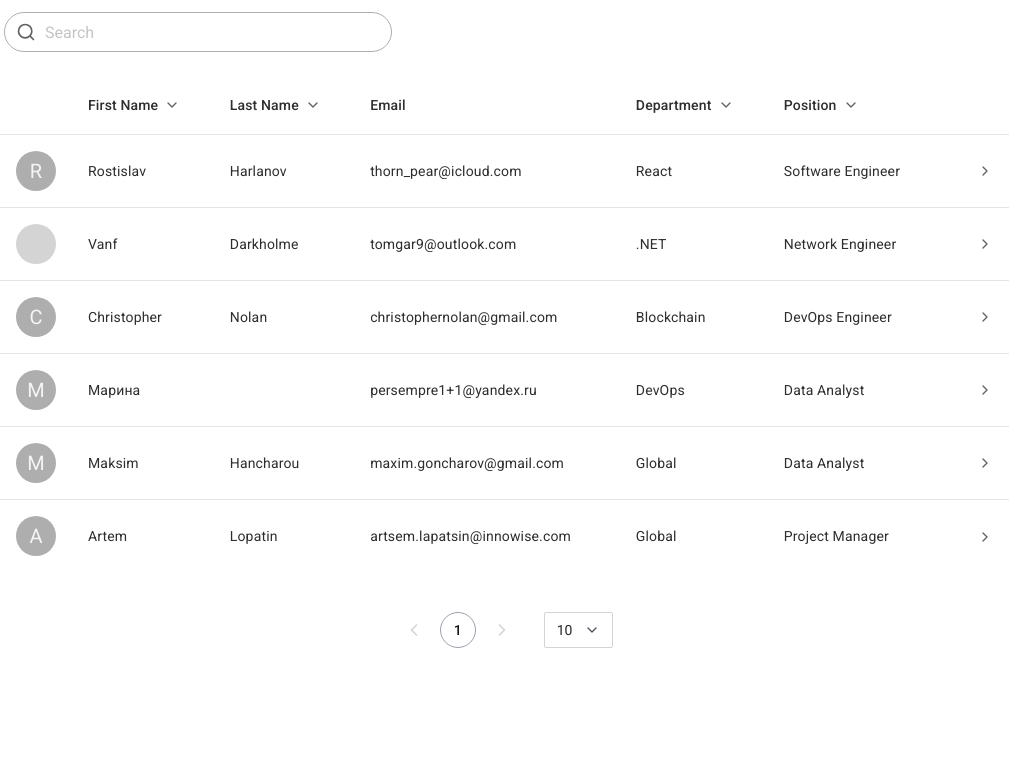
Test case: UsersTable component › filters employees when searching
Type "Nolan" into the field named "search employees" at (198, 32), box [4,12,392,52]
Wait 300 ms
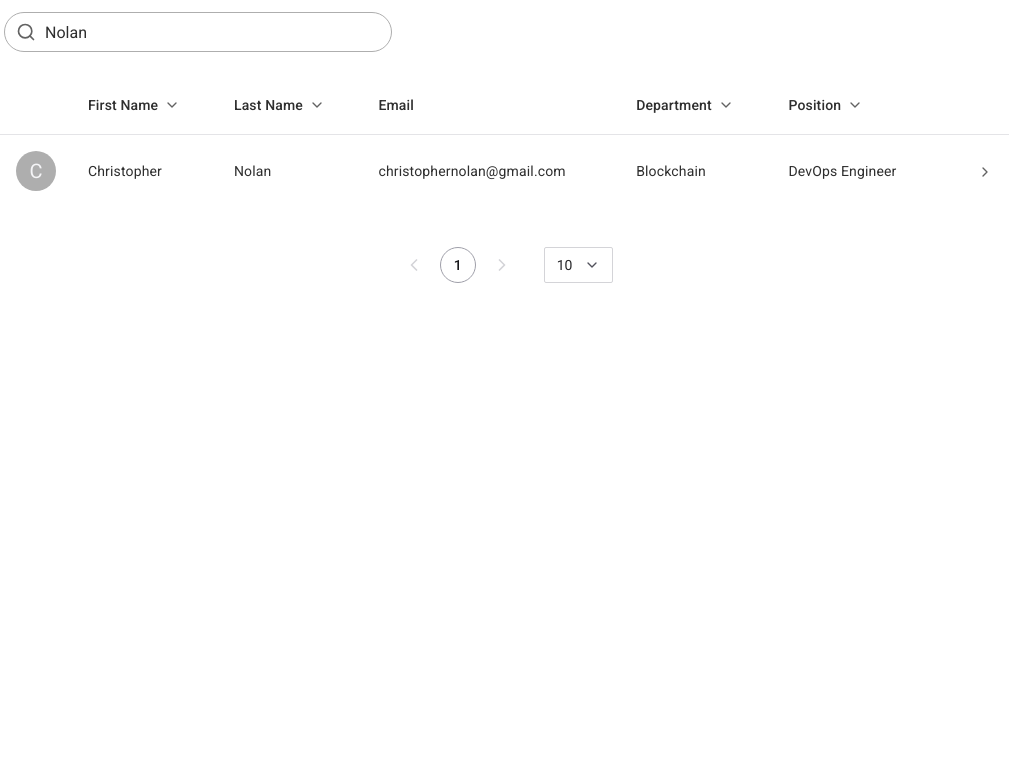
Expected: the text "Christopher" is shown, [72,134,218,207]
Expected: the text "Harlanov" is gone
